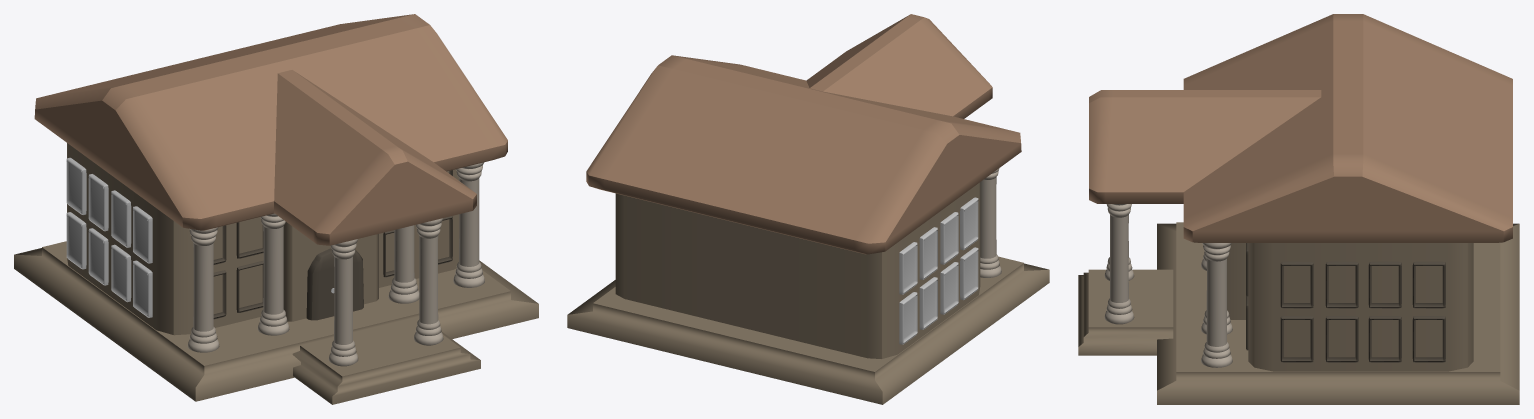
Rendered from bank.fbx.
3 views of the same model, side by side, from view 1: azimuth 30°, elevation 25°; view 2: azimuth 150°, elevation 25°; view 3: azimuth 270°, elevation 25° (orthographic). The views are drawn at different scales.
Parts seen in each view (by area): view 1: roof, basebuilding, windows4, pillars2, pillars1; view 2: roof, basebuilding, windows4, pillars2; view 3: roof, basebuilding, pillars1, windows3, windows2, windos1.
Part boxes in pixels (box(x1,y1,x2,y2)): roof: box(34, 14, 507, 366); basebuilding: box(14, 143, 538, 404); windows4: box(66, 157, 452, 319); pillars2: box(187, 213, 289, 352); pillars1: box(388, 162, 484, 303); roof: box(586, 14, 1021, 254); basebuilding: box(567, 182, 1049, 404); windows4: box(899, 197, 978, 344); pillars2: box(980, 168, 1001, 277); roof: box(1089, 14, 1512, 324); basebuilding: box(1078, 222, 1519, 404); pillars1: box(1201, 243, 1232, 367); windows3: box(1280, 261, 1401, 308); windows2: box(1280, 316, 1401, 362); windos1: box(1412, 261, 1445, 362).
Bounding box in the file's own units: 19.14 × 12.44 × 21.35.
